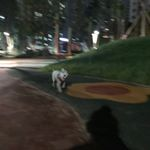puppy: (47, 64, 75, 98)
